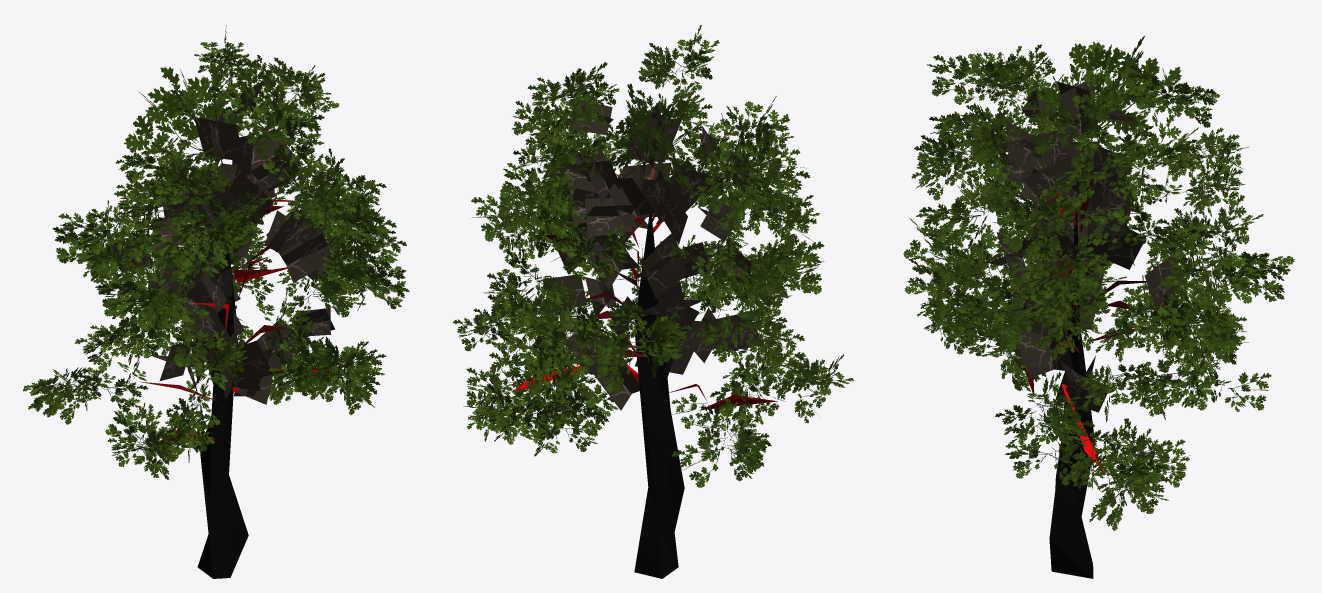
The model's file is maple2 lod2.FBX.
The picture shows the model from 3 angles, left to right: view 1: azimuth 30°, elevation 25°; view 2: azimuth 150°, elevation 25°; view 3: azimuth 270°, elevation 25°; orthographic projection. The views are drawn at different scales.
Visible parts, largest first — view 1: maple2_LOD2; view 2: maple2_LOD2; view 3: maple2_LOD2.
Part boxes in pixels (box(x1,y1,x2,y2)): maple2_LOD2: box(23, 25, 409, 578); maple2_LOD2: box(453, 25, 853, 578); maple2_LOD2: box(903, 35, 1294, 578).
Size of the model in its own units: 89077 by 124796 by 85048.
